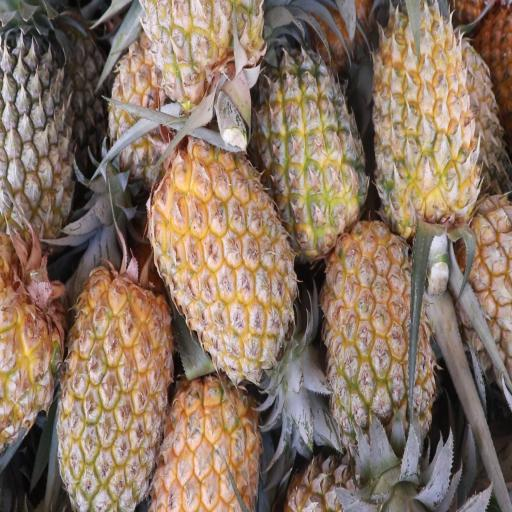------------------------------: (248, 48, 368, 272), (136, 2, 270, 154)
Pineapple - v8 v1: (148, 125, 299, 387), (316, 216, 434, 508), (60, 252, 176, 512), (368, 5, 480, 266), (148, 355, 263, 512), (0, 226, 71, 456), (447, 185, 512, 405)
